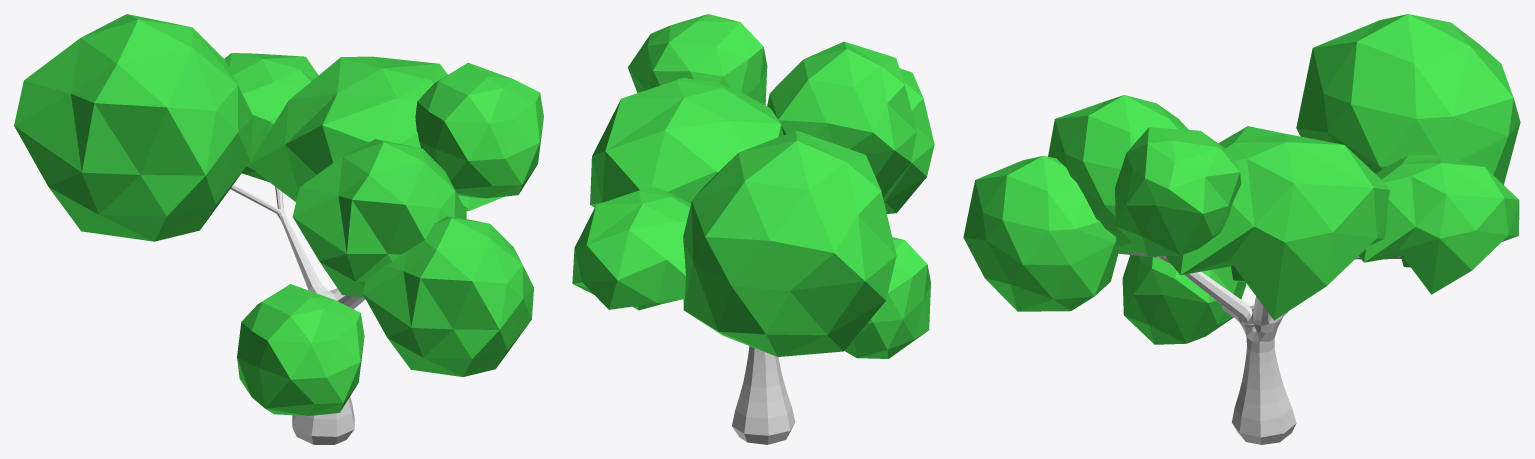
The model's file is tree.fbx.
3 views of the same model, side by side, from view 1: azimuth 30°, elevation 25°; view 2: azimuth 150°, elevation 25°; view 3: azimuth 270°, elevation 25° (orthographic). The views are drawn at different scales.
Visible parts, largest first — view 1: Icosphere, Plane; view 2: Icosphere, Plane; view 3: Icosphere, Plane.
Boxes of the visible parts, x1=… form: Icosphere: x1=14, y1=14, x2=543, y2=415; Plane: x1=230, y1=184, x2=365, y2=444; Icosphere: x1=572, y1=14, x2=934, y2=358; Plane: x1=732, y1=346, x2=795, y2=444; Icosphere: x1=963, y1=14, x2=1520, y2=344; Plane: x1=1118, y1=253, x2=1401, y2=444.
Bounding box in the file's own units: 1075 × 1059 × 1431.
